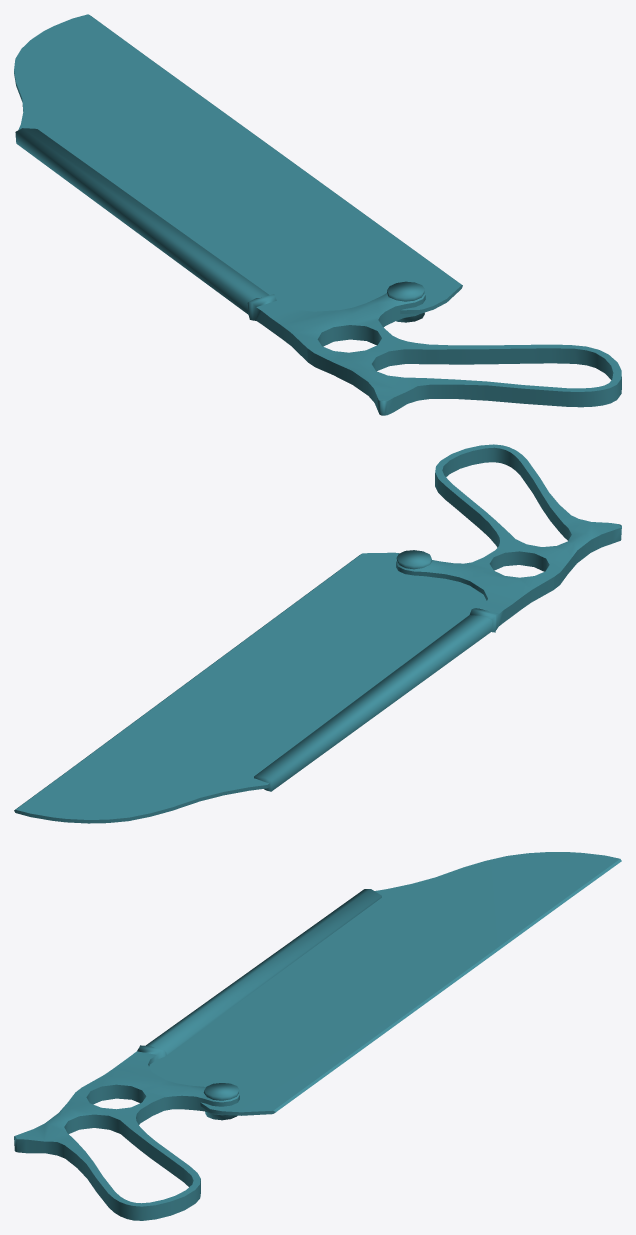
Rendered from SM_Surgical_Saw_1.FBX.
3 views of the same model, one above another, from view 1: azimuth 30°, elevation 25°; view 2: azimuth 150°, elevation 25°; view 3: azimuth 330°, elevation 25° (orthographic). The views are drawn at different scales.
Visible parts, largest first — view 1: Surgical_Saw_1; view 2: Surgical_Saw_1; view 3: Surgical_Saw_1.
Boxes of the visible parts, left/top/right/bottom form: Surgical_Saw_1: left=14, top=14, right=621, bottom=415; Surgical_Saw_1: left=14, top=444, right=621, bottom=823; Surgical_Saw_1: left=14, top=852, right=621, bottom=1220.
Size of the model in its own units: 9.25 by 1.08 by 39.45.
